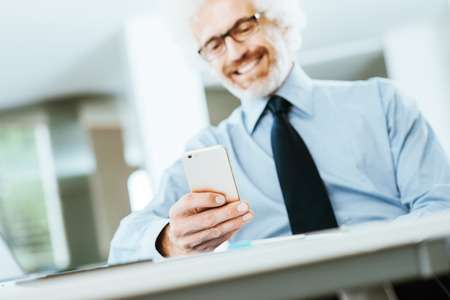F_shirt: (103, 65, 450, 274)
F_tie: (263, 99, 344, 237)
